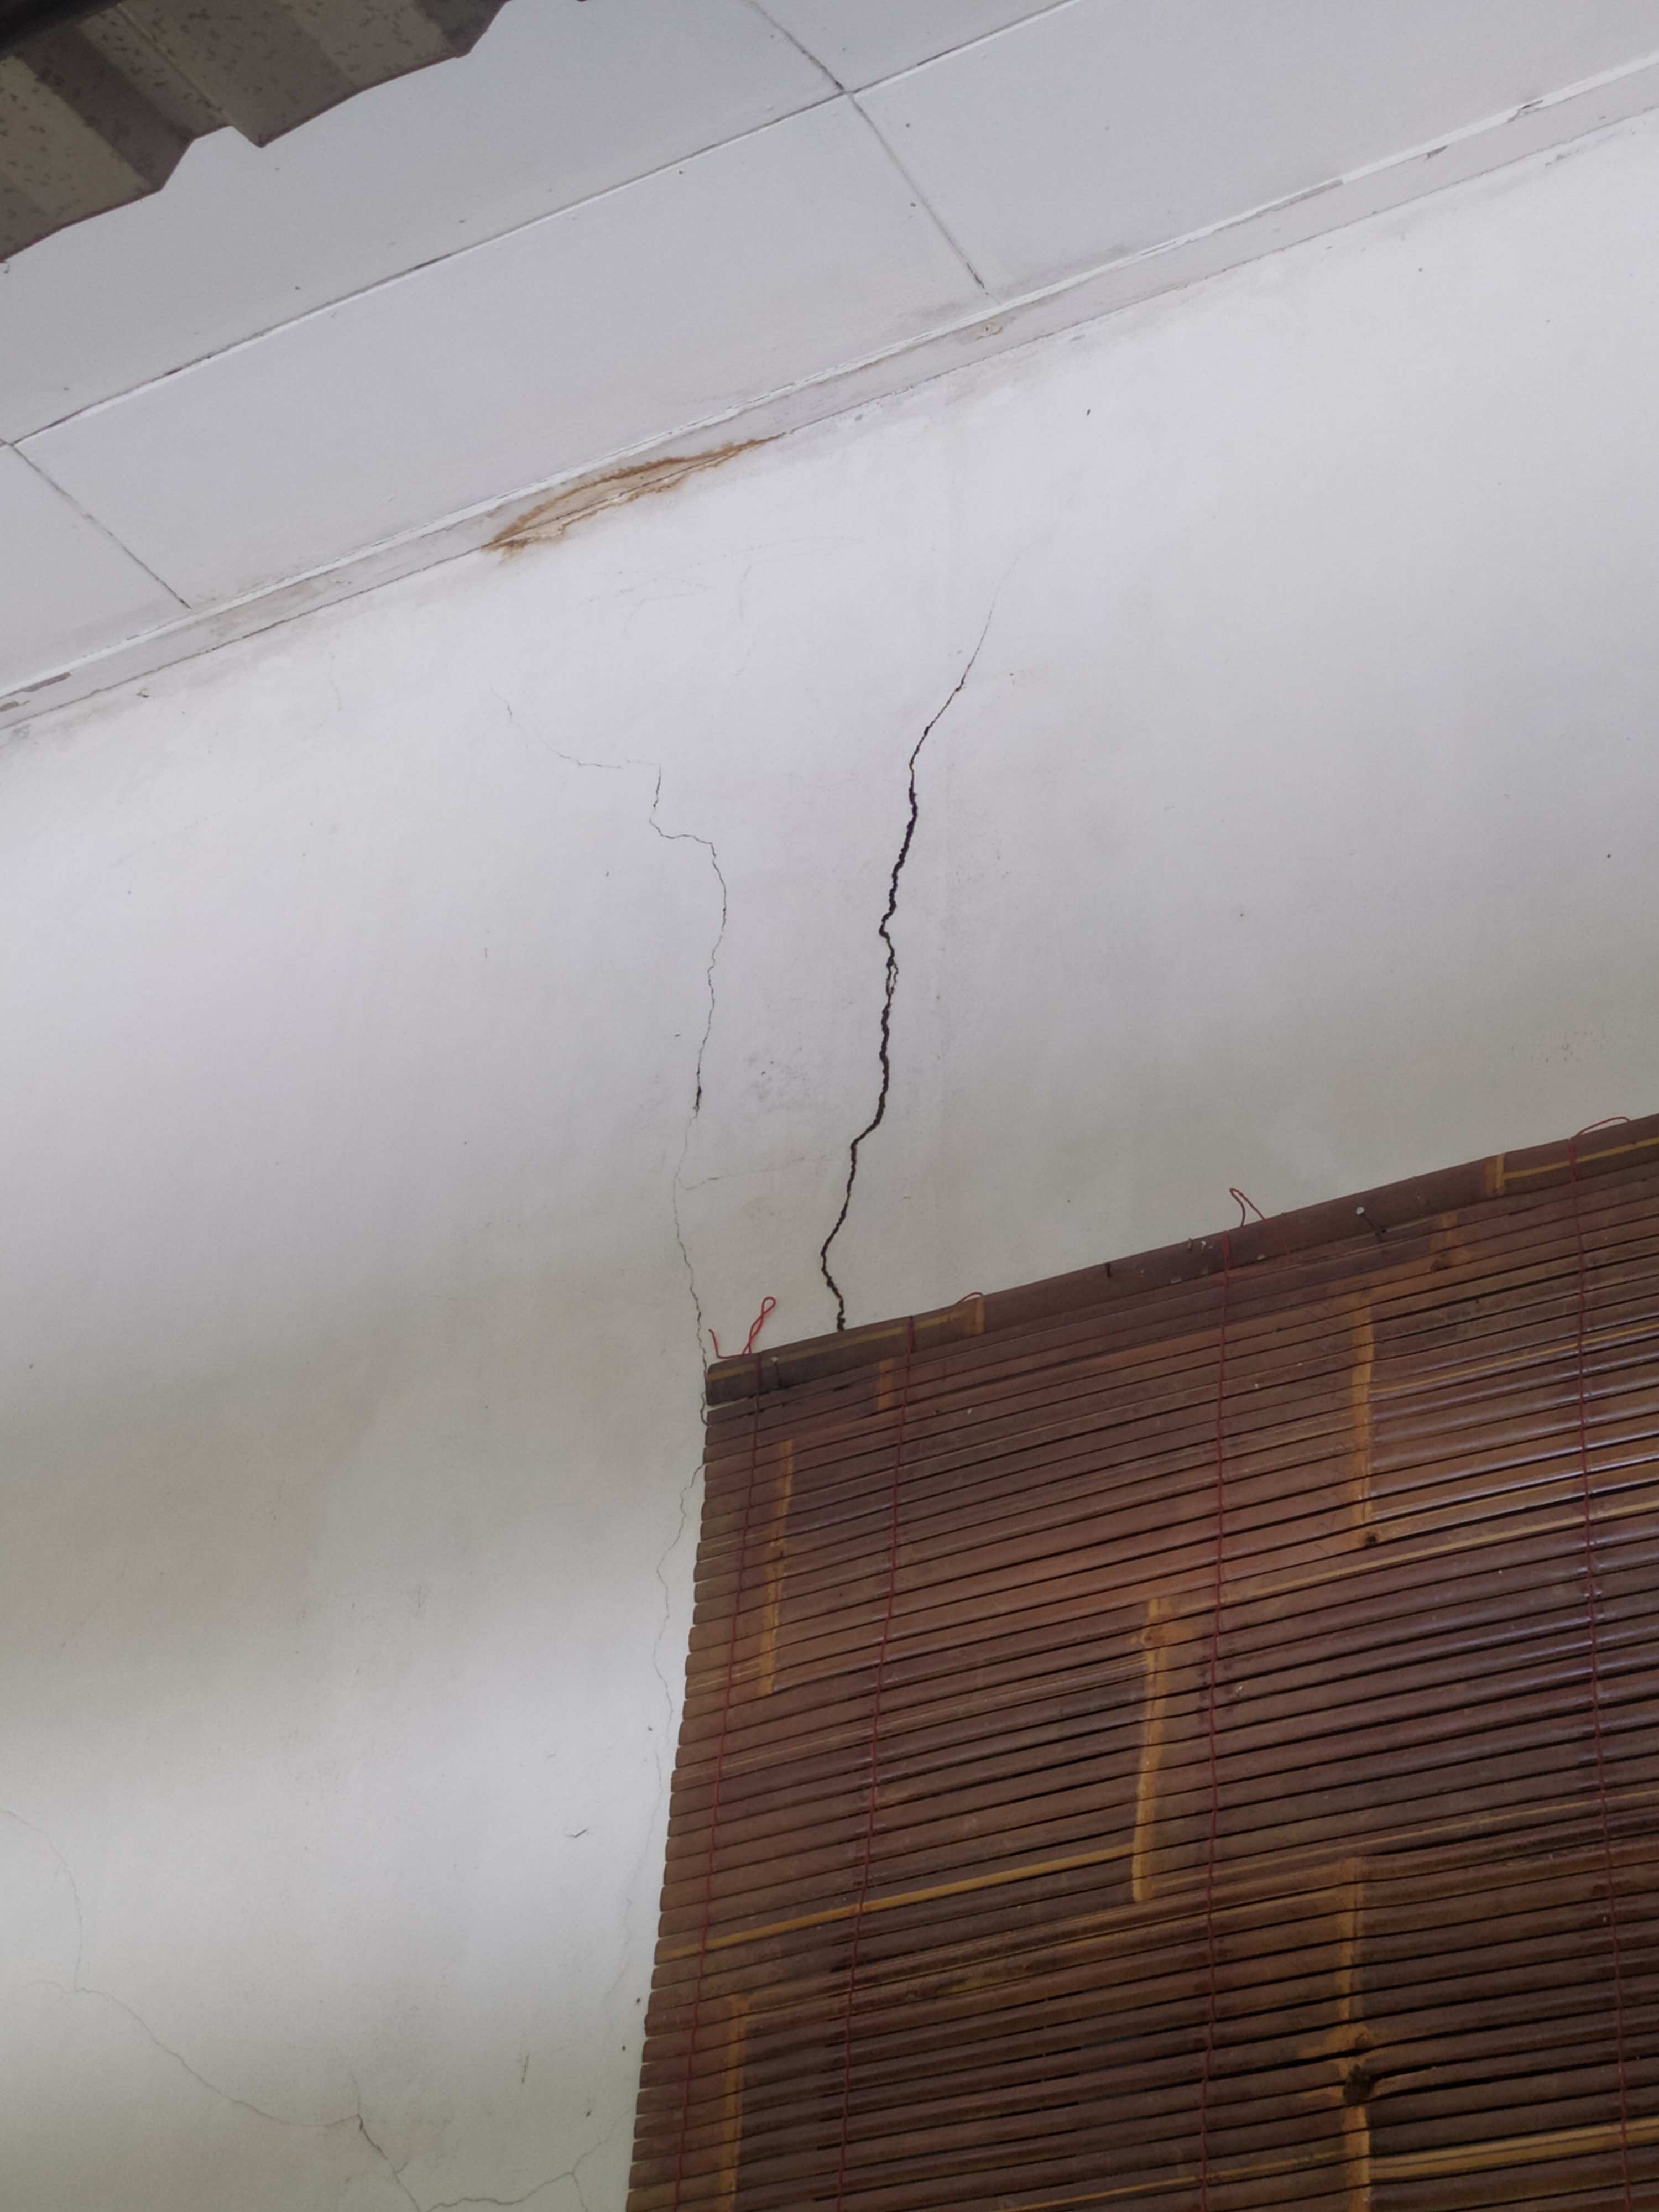crack: (49, 1425, 704, 2212), (486, 678, 751, 1367), (807, 566, 1009, 1341)
